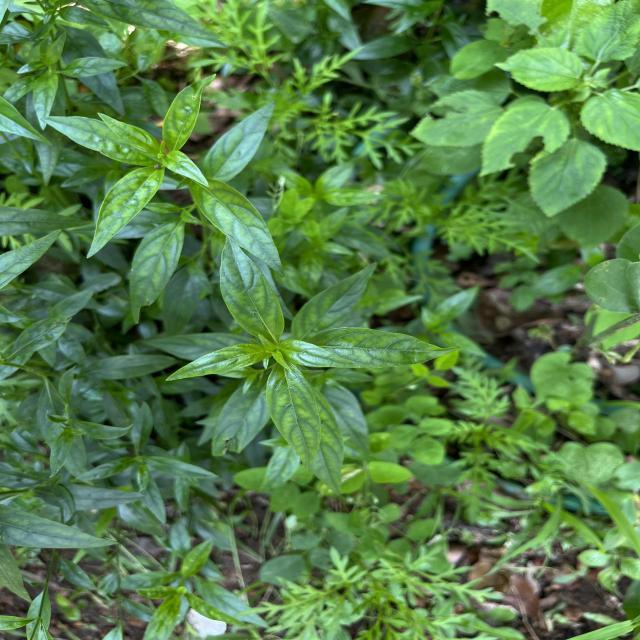Andrographis paniculata: (185, 178, 288, 278), (86, 163, 166, 260), (217, 232, 285, 344), (290, 260, 379, 340), (301, 326, 462, 369), (127, 215, 185, 326), (201, 98, 277, 181), (264, 364, 322, 472), (39, 114, 157, 164), (164, 342, 270, 382), (158, 150, 208, 187)
